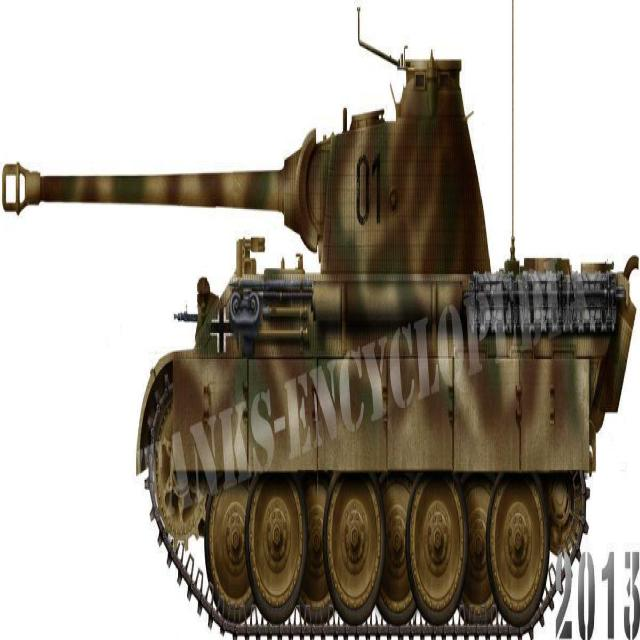Tanks: (138, 51, 625, 614)
